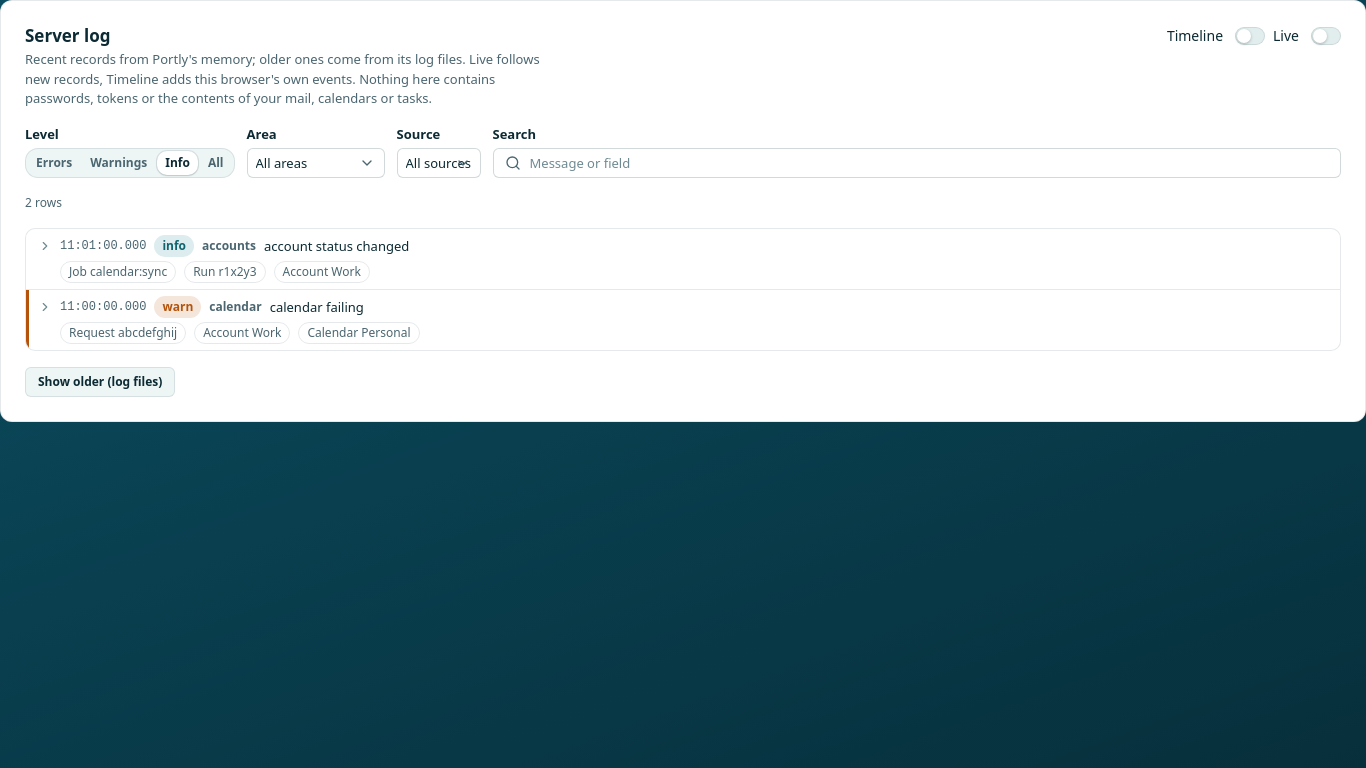
Test: ServerLogPanel › Live appends what is new every 2 seconds, asking after the last record seen
Expected: the text "account status changed" is shown, [264, 236, 409, 254]
Click the 2nd switch named "Live". click: (1326, 36)
box: [1311, 26, 1341, 44]
Wait 4000 ms
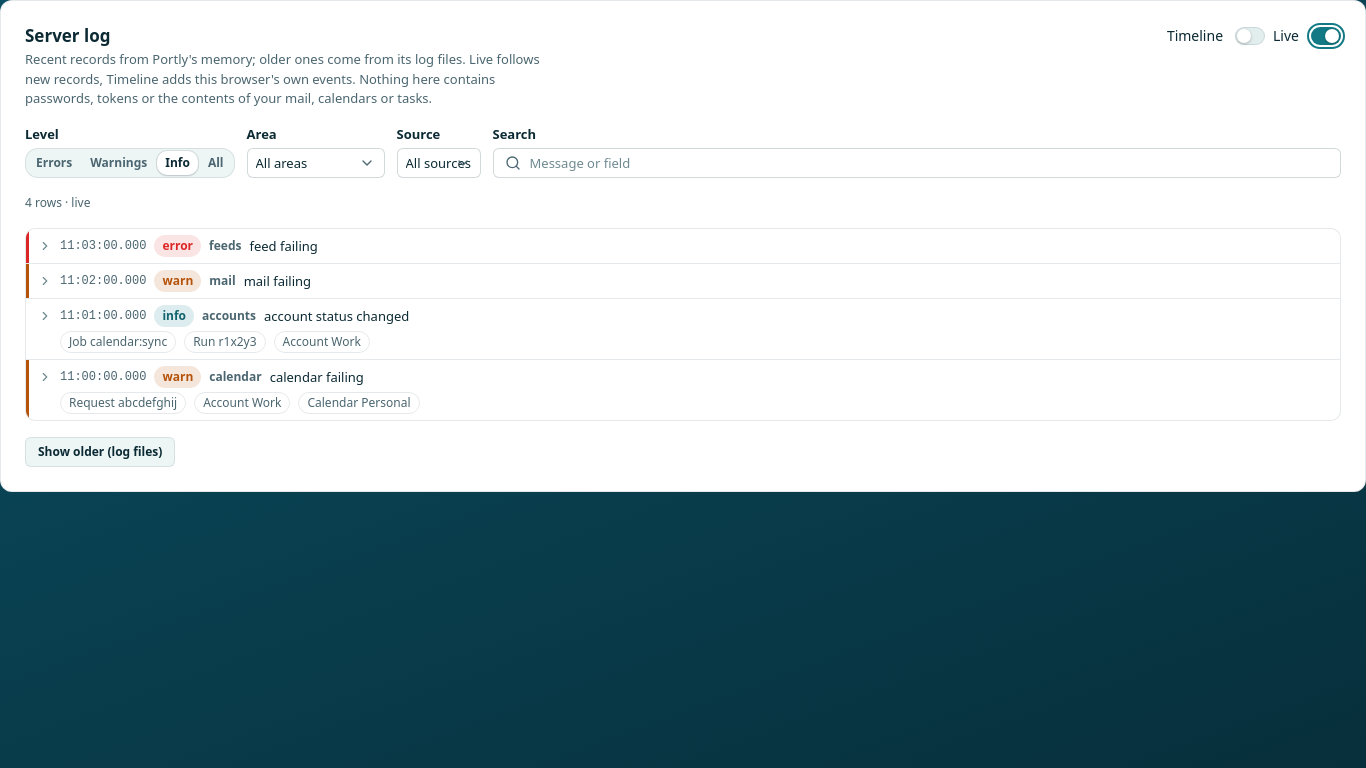
Expected: the text "mail failing" is shown, [244, 272, 311, 290]
Expected: the text "feed failing" is shown, [249, 236, 318, 254]
Expected: the text "4 rows · live" is shown, [25, 194, 90, 211]
